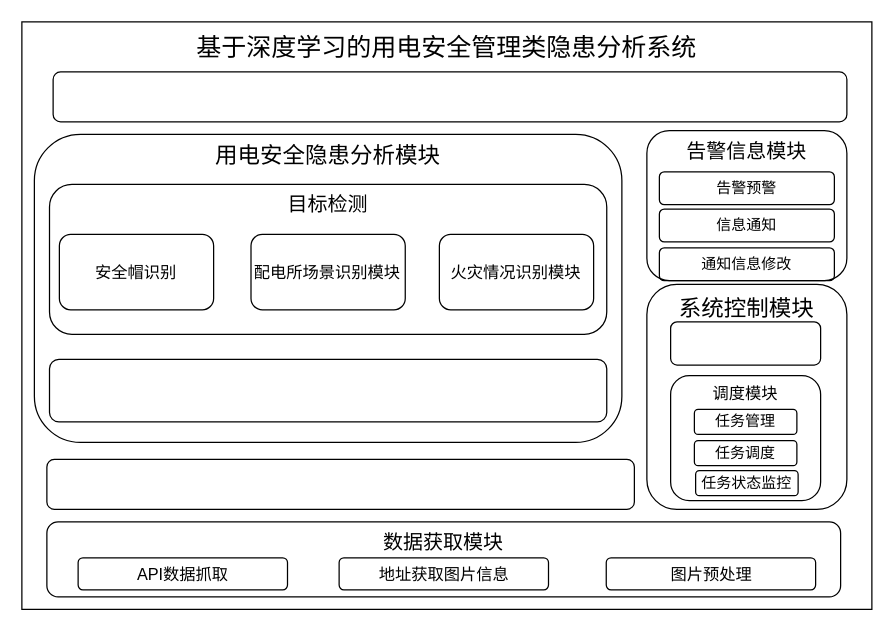
Some shapes in this 894 by 631 pixel diagram are drawn without their labels. The centre of each missing label's shape, as x and y in pixels:
YOLO 深度学习算法模型: [327,390]
数据存储模块: [340,483]
日志处理: [745,343]
用户操作模块: [449,96]
